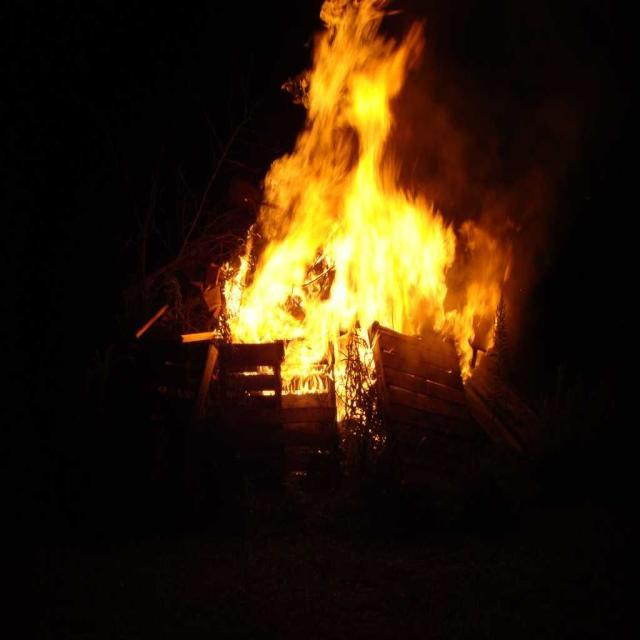Fire: (257, 210, 475, 338), (302, 10, 412, 196)
